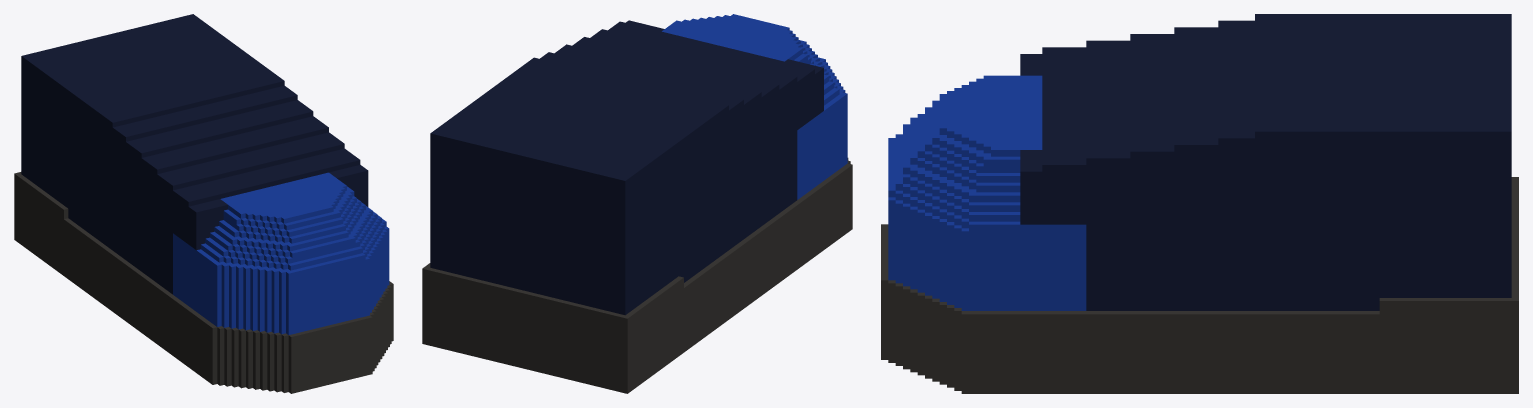
Rendered from boots_heavy_worn_foot.glb.
3 renders of one model, left to right at view 1: azimuth 30°, elevation 25°; view 2: azimuth 150°, elevation 25°; view 3: azimuth 270°, elevation 25°, orthographic. The views are drawn at different scales.
Visible parts, largest first — view 1: boots_heavy_worn_foot:compound; view 2: boots_heavy_worn_foot:compound; view 3: boots_heavy_worn_foot:compound.
Part boxes in pixels (bbox=[...]): boots_heavy_worn_foot:compound: bbox=[14, 14, 393, 393]; boots_heavy_worn_foot:compound: bbox=[422, 14, 852, 393]; boots_heavy_worn_foot:compound: bbox=[881, 14, 1518, 393].
Size of the model in its own units: 0.16 by 0.156 by 0.348.
